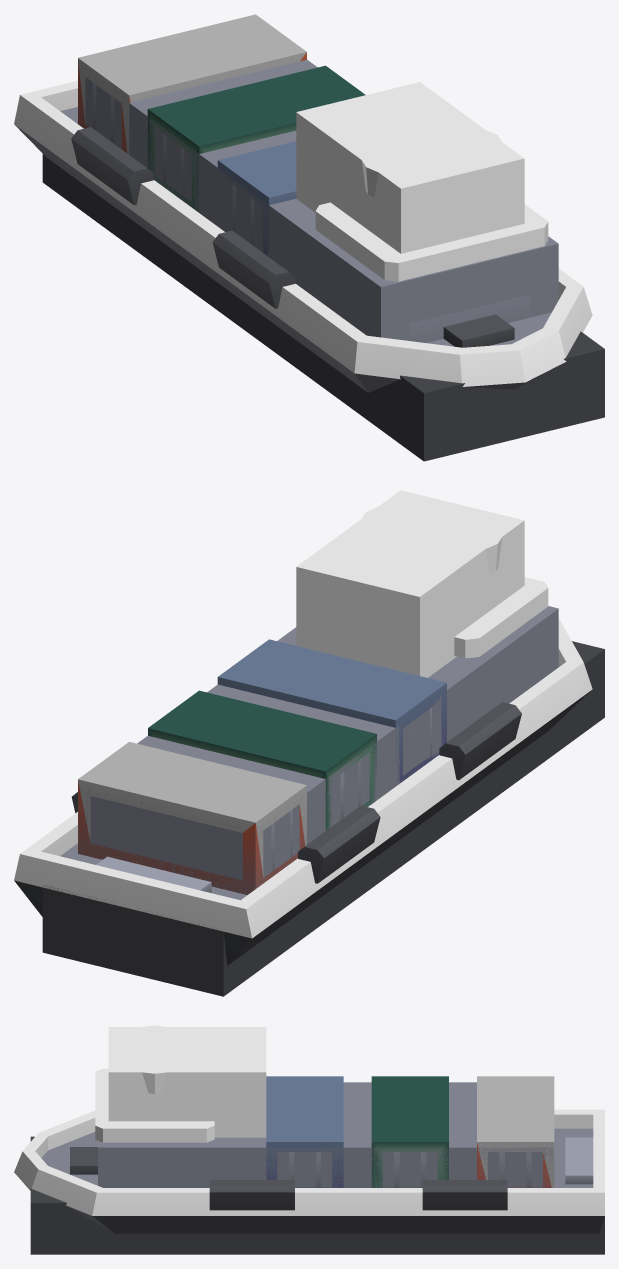
The model's file is vessel.cargo.glb.
3 views of the same model, one above another, from view 1: azimuth 30°, elevation 25°; view 2: azimuth 150°, elevation 25°; view 3: azimuth 270°, elevation 25° (orthographic). The views are drawn at different scales.
Visible parts, largest first — view 1: far, near; view 2: far, near; view 3: near, far.
Boxes of the visible parts, x1,y1,x2,y2 form: far: (42, 59, 604, 461); near: (14, 14, 592, 392); far: (42, 490, 604, 996); near: (14, 504, 592, 965); near: (14, 1025, 604, 1233); far: (30, 1027, 604, 1254).
Size of the model in its own units: 44.56 by 38.45 by 120.
